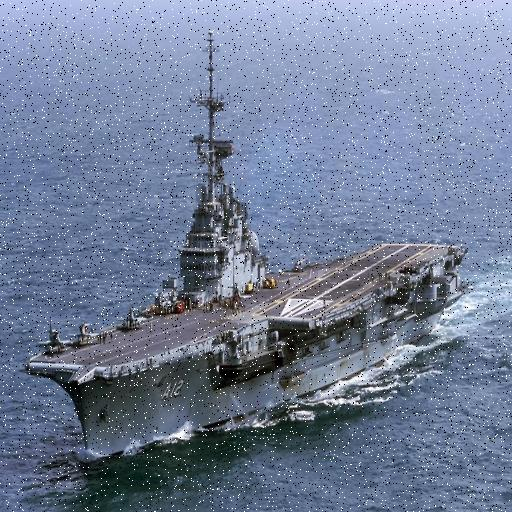Portanaves: (20, 26, 473, 469)
